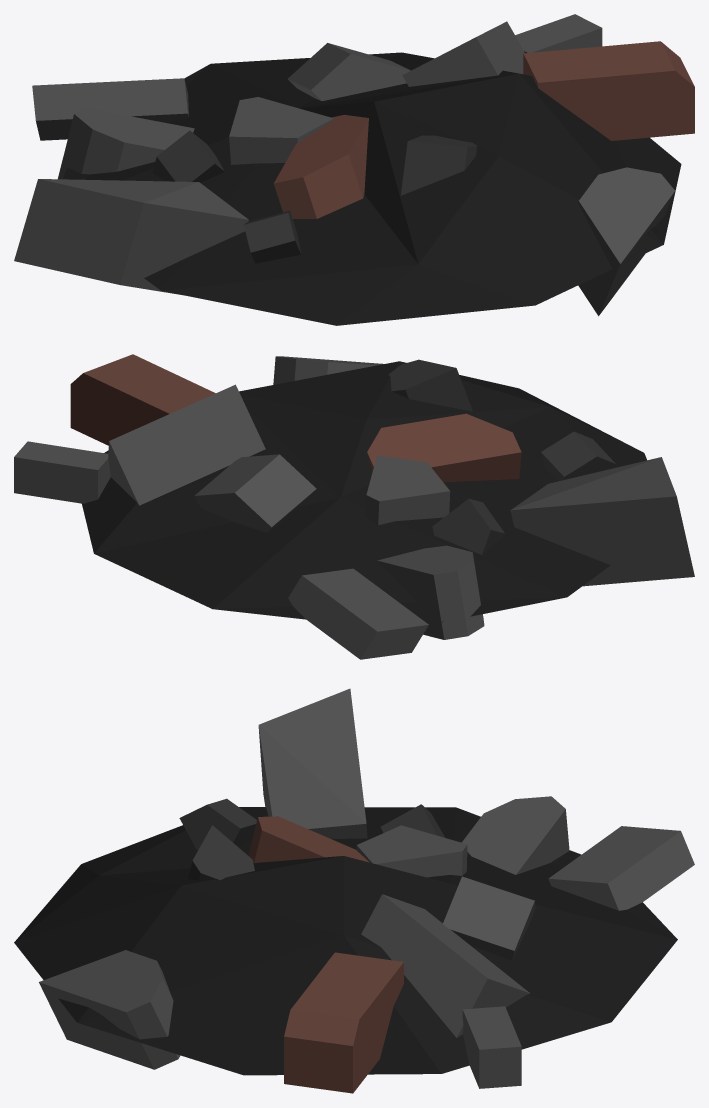
Rendered from rubble2.fbx.
3 renders of one model, top to bottom at view 1: azimuth 30°, elevation 25°; view 2: azimuth 150°, elevation 25°; view 3: azimuth 270°, elevation 25°, orthographic. The views are drawn at different scales.
Visible parts, largest first — view 1: Icosphere; view 2: Icosphere; view 3: Icosphere.
Part boxes in pixels (box(x1,y1,x2,y2)): Icosphere: box(14, 14, 694, 325); Icosphere: box(14, 354, 694, 659); Icosphere: box(14, 688, 694, 1093).
Bounding box in the file's own units: 431 × 98.05 × 375.
